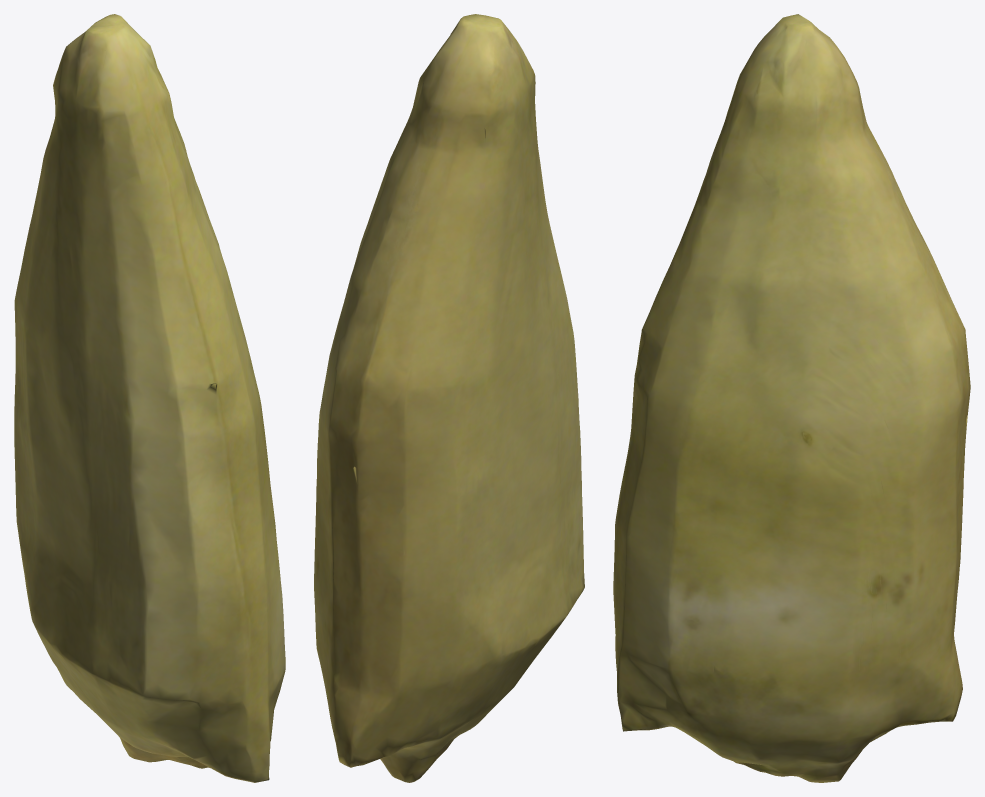
File: yucca_fruit.fbx
The picture shows the model from 3 angles, left to right: view 1: azimuth 30°, elevation 25°; view 2: azimuth 150°, elevation 25°; view 3: azimuth 270°, elevation 25°; orthographic projection. The views are drawn at different scales.
Visible parts, largest first — view 1: Mesh1_Mesh1.034; view 2: Mesh1_Mesh1.034; view 3: Mesh1_Mesh1.034.
Boxes of the visible parts, <box> form: Mesh1_Mesh1.034: <box>14,14,285,782</box>; Mesh1_Mesh1.034: <box>314,14,584,782</box>; Mesh1_Mesh1.034: <box>613,14,970,782</box>.
Size of the model in its own units: 50.43 by 200 by 88.59.
Materials: 1 (1 with a texture image).
